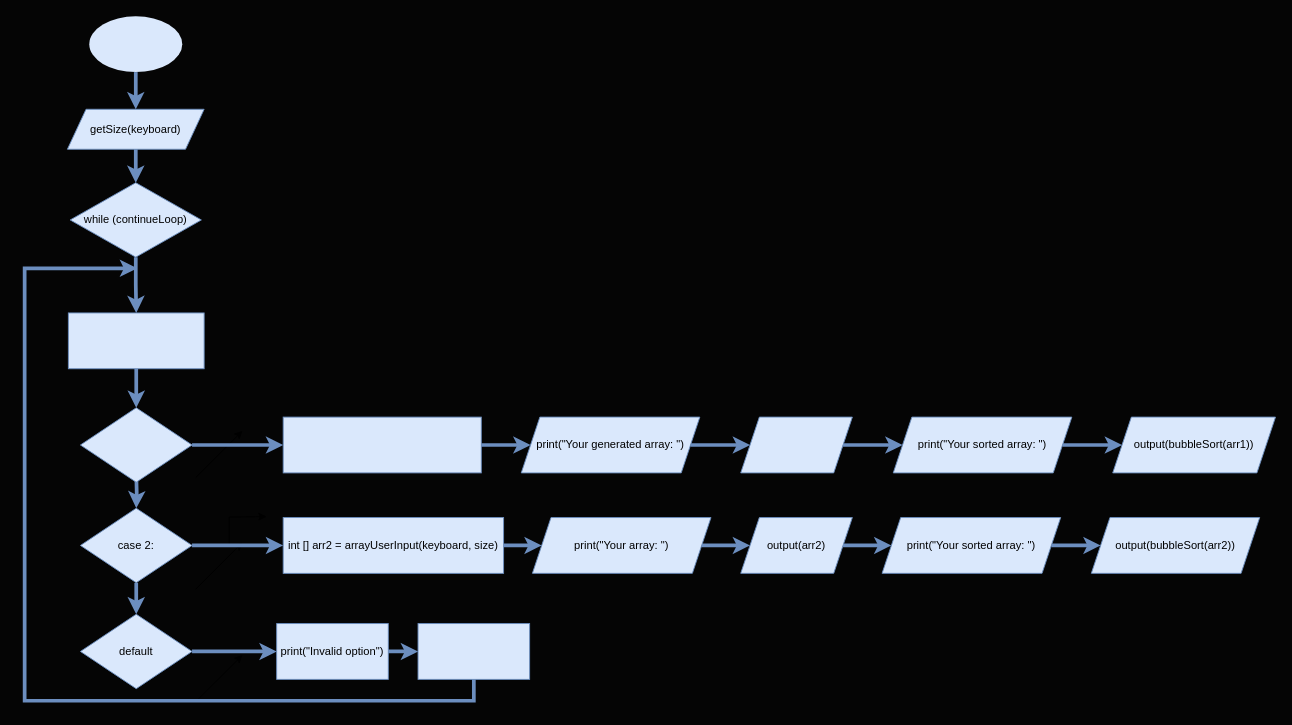
This 1292x725 diagram has some shape labels left out. Each missing label, with the centre of its shape:
break: the point at 473,651
case 1:: the point at 136,444
int [] arr1 = arrayRandom(rand, size): the point at 381,444
output(arr1): the point at 796,444
Start: the point at 135,44
switch (menu(keyboard)): the point at 135,340
